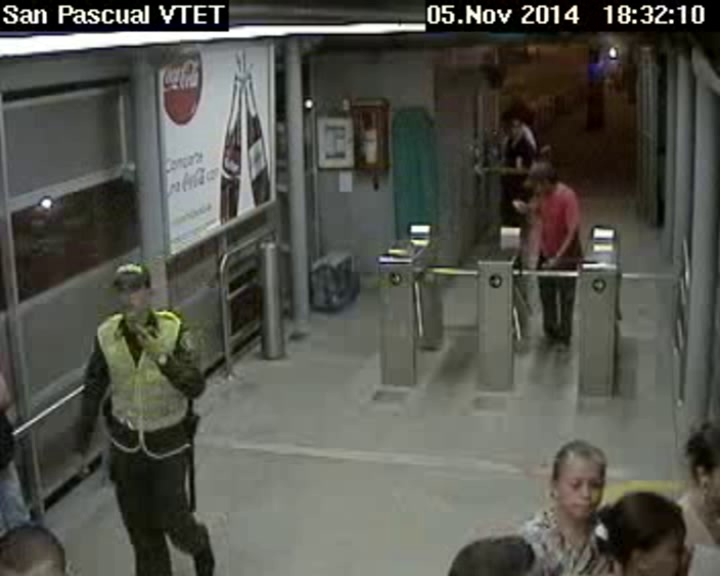person: (596, 484, 696, 576), (423, 532, 578, 576), (546, 437, 607, 528), (1, 524, 86, 576), (681, 409, 720, 520), (102, 257, 157, 330), (525, 158, 556, 192), (499, 109, 526, 138)
